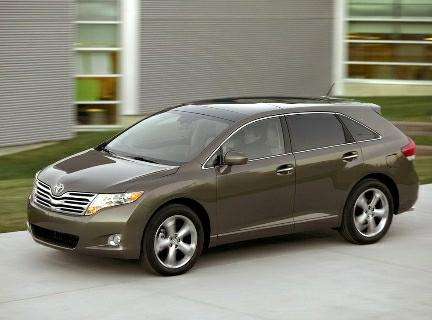car: (19, 87, 425, 275)
